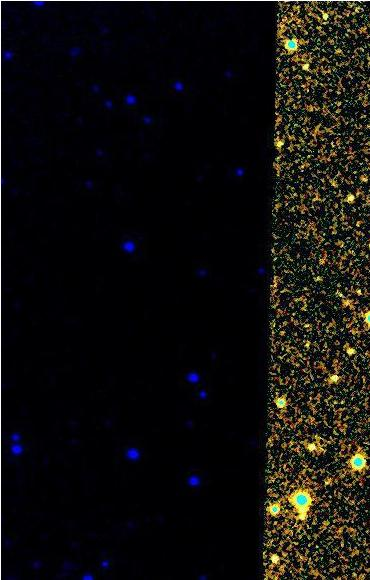star: (291, 55, 321, 85)
